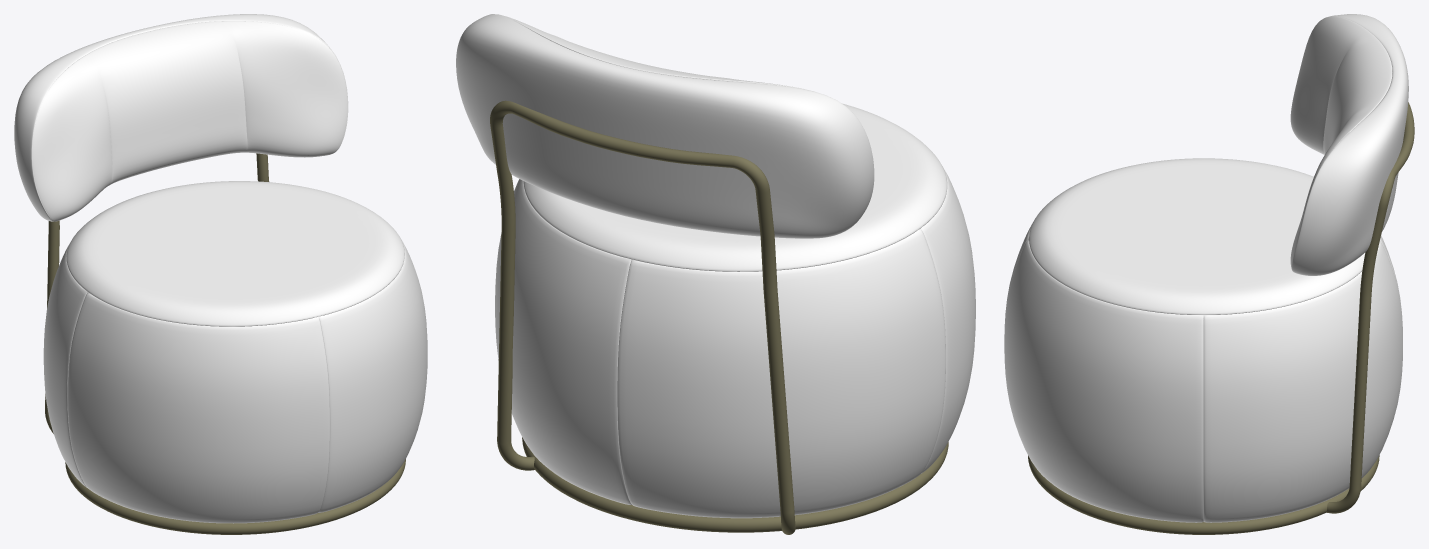
The model's file is poltrona-betha.glb.
The picture shows the model from 3 angles, left to right: view 1: azimuth 30°, elevation 25°; view 2: azimuth 150°, elevation 25°; view 3: azimuth 270°, elevation 25°; orthographic projection. The views are drawn at different scales.
Visible parts, largest first — view 1: 3DGeom-2 (×3), 3DGeom-9, 3DGeom-1, 3DGeom-10, 3DGeom-6, 3DGeom-11; view 2: 3DGeom-2 (×3), 3DGeom-10, 3DGeom-1, 3DGeom-11, 3DGeom-6, 3DGeom-9; view 3: 3DGeom-2 (×2), 3DGeom-1, 3DGeom-10, 3DGeom-9, 3DGeom-11, 3DGeom-6.
Boxes of the visible parts, left/top/right/bottom form: 3DGeom-2 (×3): left=43, top=239, right=427, bottom=523; 3DGeom-9: left=31, top=21, right=347, bottom=221; 3DGeom-1: left=66, top=181, right=404, bottom=326; 3DGeom-10: left=14, top=14, right=348, bottom=221; 3DGeom-6: left=65, top=459, right=405, bottom=534; 3DGeom-11: left=45, top=153, right=269, bottom=433; 3DGeom-2 (×3): left=495, top=168, right=975, bottom=518; 3DGeom-10: left=456, top=14, right=874, bottom=238; 3DGeom-1: left=523, top=103, right=947, bottom=271; 3DGeom-11: left=490, top=100, right=795, bottom=534; 3DGeom-6: left=522, top=437, right=948, bottom=532; 3DGeom-9: left=498, top=14, right=811, bottom=90; 3DGeom-2 (×2): left=1004, top=239, right=1402, bottom=522; 3DGeom-1: left=1029, top=158, right=1365, bottom=314; 3DGeom-10: left=1291, top=14, right=1408, bottom=275; 3DGeom-9: left=1290, top=16, right=1392, bottom=268; 3DGeom-11: left=1326, top=102, right=1414, bottom=513; 3DGeom-6: left=1028, top=455, right=1379, bottom=534.
Size of the model in its own units: 0.8 by 0.8383 by 0.7997.
